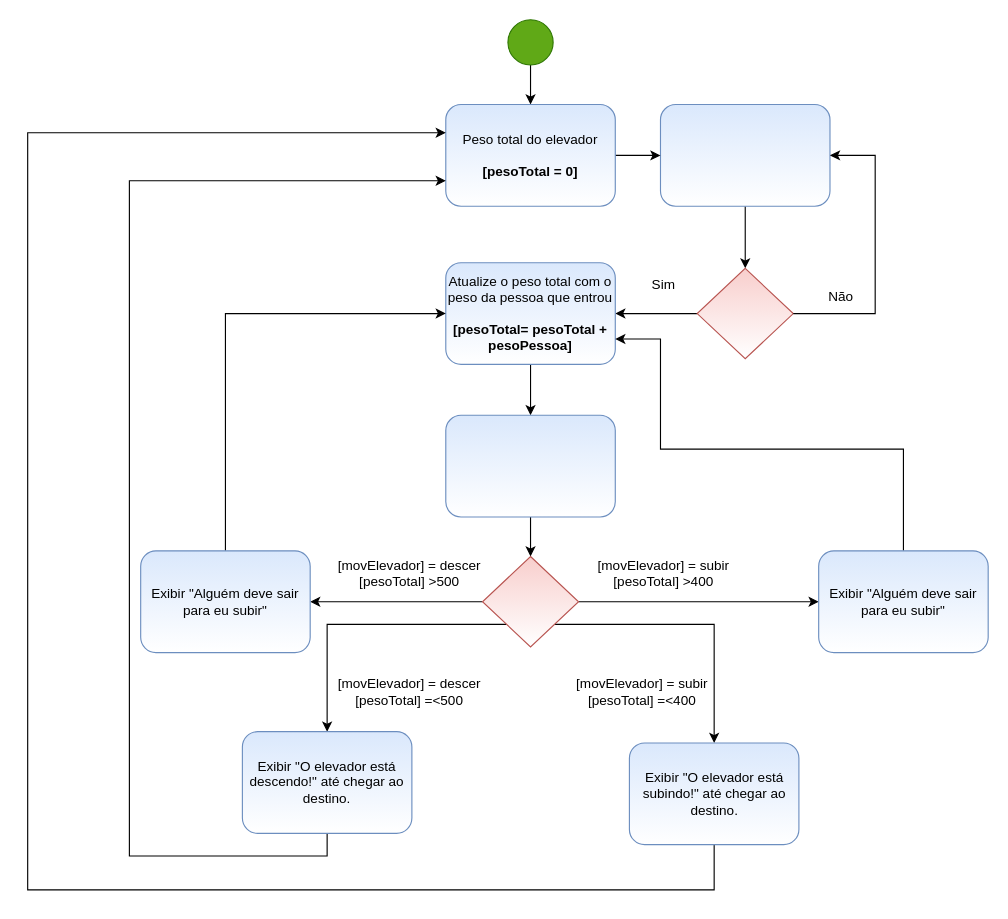
This 1008x919 diagram has some shape labels left out. Each missing label, with the centre of its shape:
Pergunte se alguém entrou no elevador: the point at 744,154
Receber comando para subir ou descer o elevador [movElevador]: the point at 530,465
